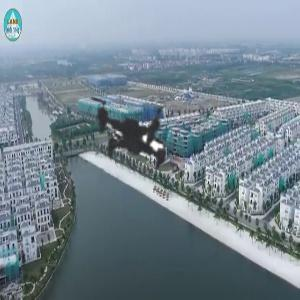drone: (4, 1, 283, 280)
